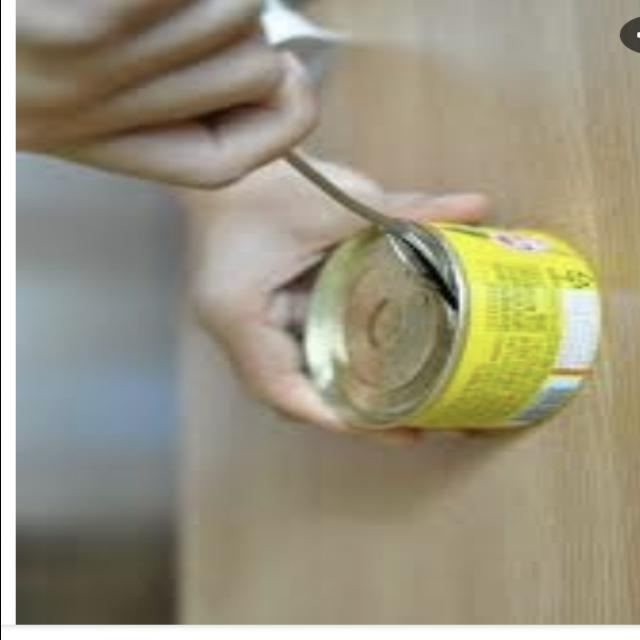can: (292, 187, 614, 457)
